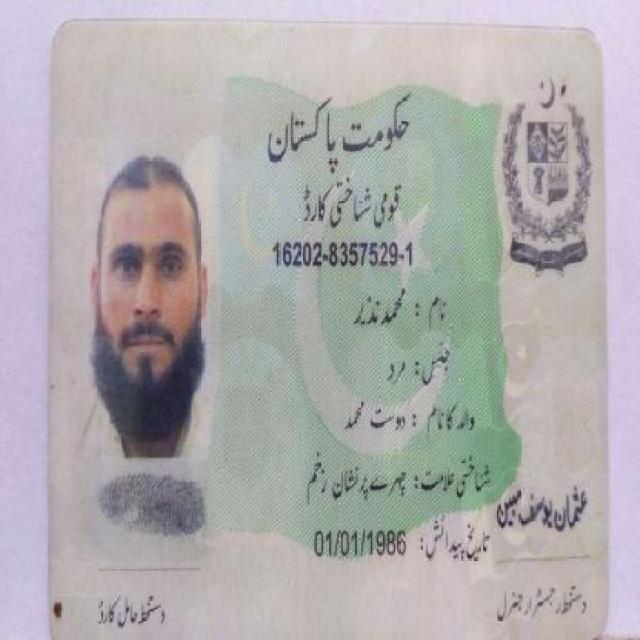Front: (45, 9, 609, 638)
